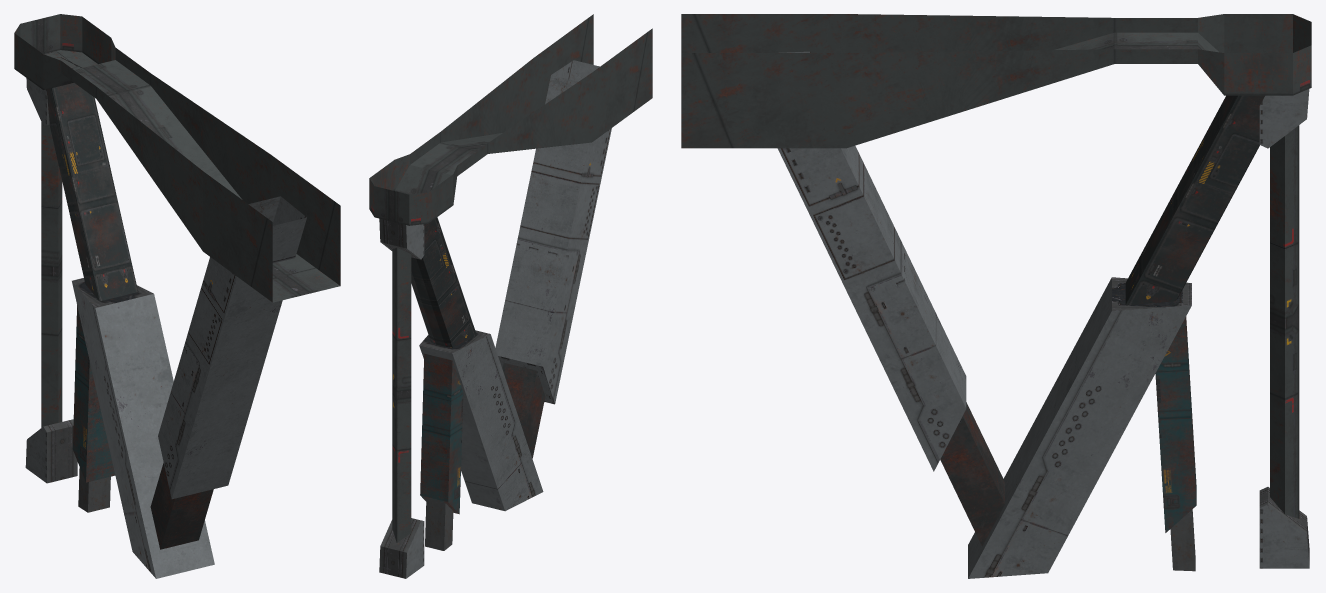
The model's file is ARC0910127.fbx.
3 views of the same model, side by side, from view 1: azimuth 30°, elevation 25°; view 2: azimuth 150°, elevation 25°; view 3: azimuth 270°, elevation 25° (orthographic). The views are drawn at different scales.
Visible parts, largest first — view 1: smARC0910127; view 2: smARC0910127; view 3: smARC0910127.
Boxes of the visible parts, left/top/right/bottom form: smARC0910127: left=14, top=14, right=340, bottom=578; smARC0910127: left=369, top=14, right=652, bottom=578; smARC0910127: left=681, top=14, right=1311, bottom=578.
Size of the model in its own units: 46.08 by 292 by 314.
Materials: 1 (1 with a texture image).
